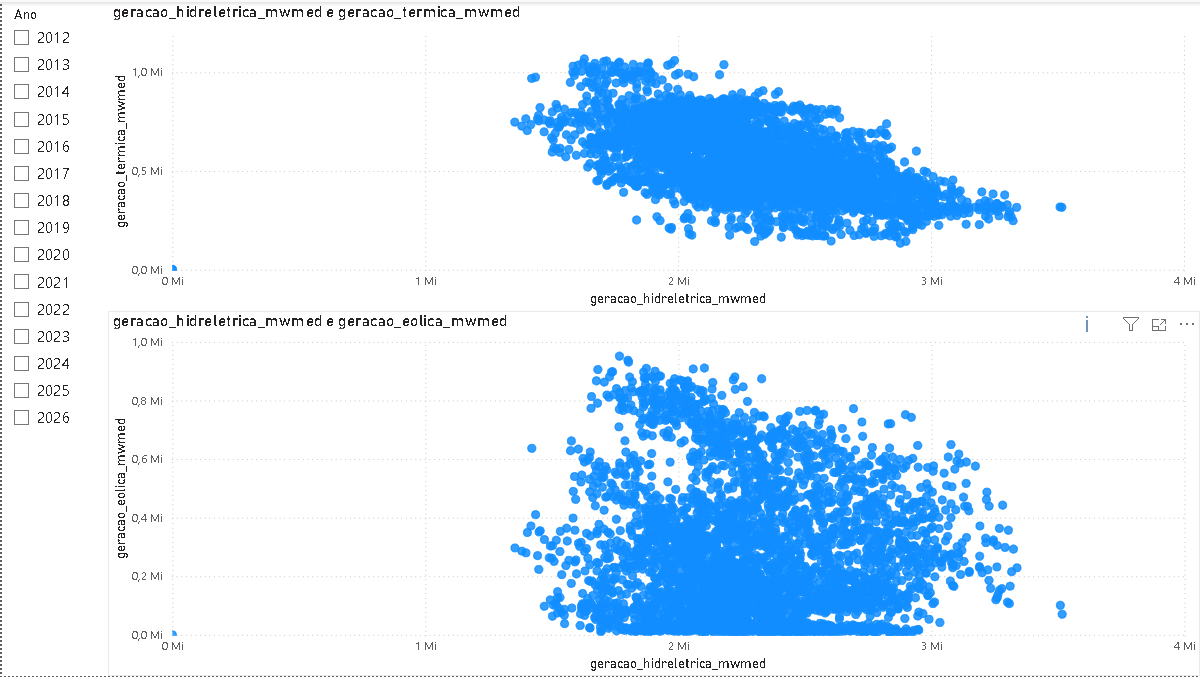

The page's visual inventory and layout, read from the dashboard file:
{"tool":"powerbi","page":{"name":"Segurança","canvas":[1280,720],"ordinal":3},"visuals":[{"type":"slicer","fields":{"Values":["dataset_final_202605222020.data_referencia.Variation.Hierarquia de datas.Ano"]},"box":[0,0,113.1,720],"z":0},{"type":"scatterChart","fields":{"X":["dataset_final_202605222020.geracao_hidreletrica_mwmed"],"Y":["dataset_final_202605222020.geracao_termica_mwmed"]},"box":[113.1,0,1166.5,330],"z":1000},{"type":"scatterChart","fields":{"X":["dataset_final_202605222020.geracao_hidreletrica_mwmed"],"Y":["dataset_final_202605222020.geracao_eolica_mwmed"]},"box":[113,330,1167,390],"z":2000}]}

Visuals, with their boxes on the page's 1280x720 design canvas (x1, y1, x2, y2). These are canvas units, not pixel positions in the 1200x677 screenshot, which may show the page scaled, cropped or inside an application window:
slicer - dataset_final_202605222020.data_referencia.Variation.Hierarquia de datas.Ano: region(0, 0, 113, 720)
scatterChart - dataset_final_202605222020.geracao_hidreletrica_mwmed x dataset_final_202605222020.geracao_termica_mwmed: region(113, 0, 1280, 330)
scatterChart - dataset_final_202605222020.geracao_hidreletrica_mwmed x dataset_final_202605222020.geracao_eolica_mwmed: region(113, 330, 1280, 720)
